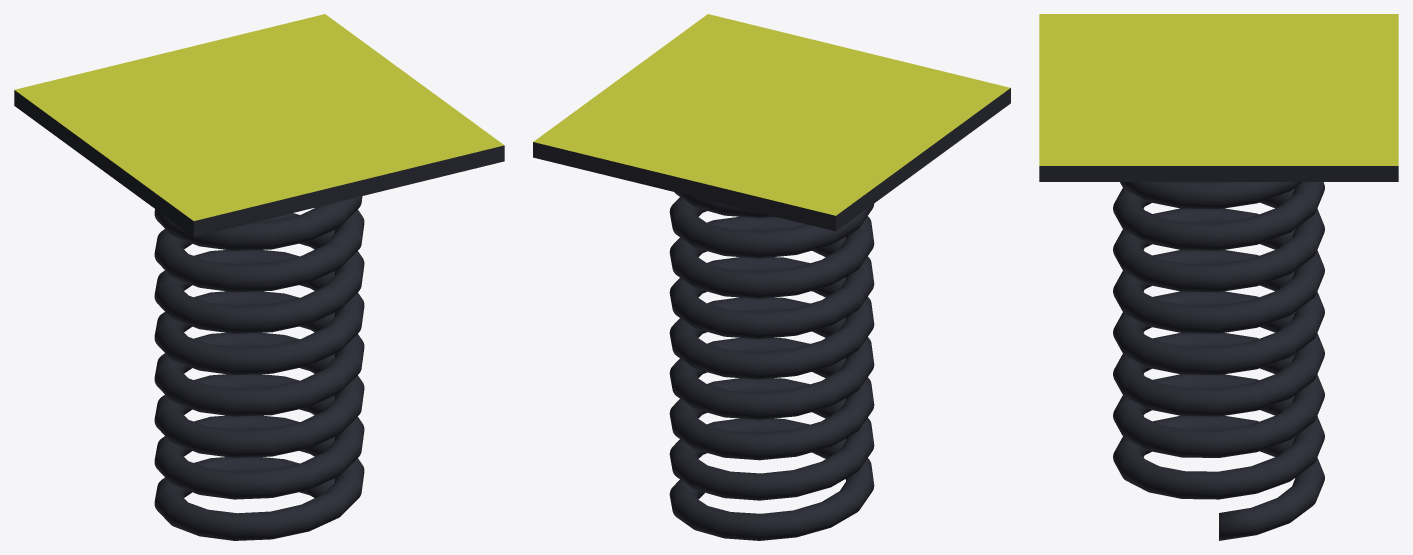
The model's file is SpringPlatform.fbx.
The picture shows the model from 3 angles, left to right: view 1: azimuth 30°, elevation 25°; view 2: azimuth 150°, elevation 25°; view 3: azimuth 270°, elevation 25°; orthographic projection. The views are drawn at different scales.
Visible parts, largest first — view 1: Cube.002, Cube.001; view 2: Cube.002, Cube.001; view 3: Cube.001, Cube.002.
Boxes of the visible parts, bbox=[...] form: Cube.002: bbox=[14, 14, 504, 236]; Cube.001: bbox=[154, 196, 364, 540]; Cube.002: bbox=[533, 14, 1010, 231]; Cube.001: bbox=[669, 192, 874, 540]; Cube.001: bbox=[1113, 182, 1324, 540]; Cube.002: bbox=[1039, 14, 1398, 181].
Bounding box in the file's own units: 163 × 206 × 163.
